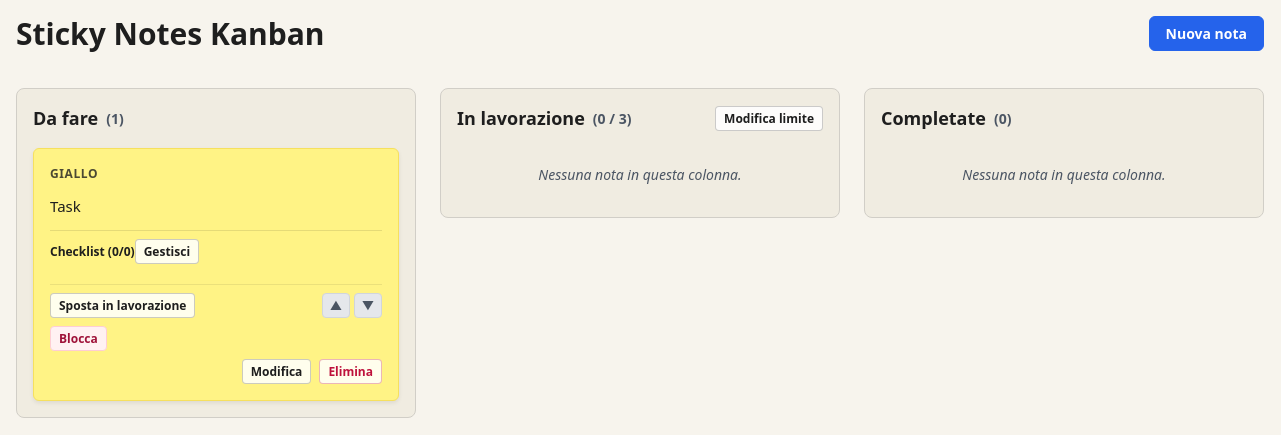
Test: App.vue CRUD orchestration › moves note to DOING when requested by board view
Click the button with aria-label "Sposta in lavorazione" at (123, 305), box [50,292,195,318]
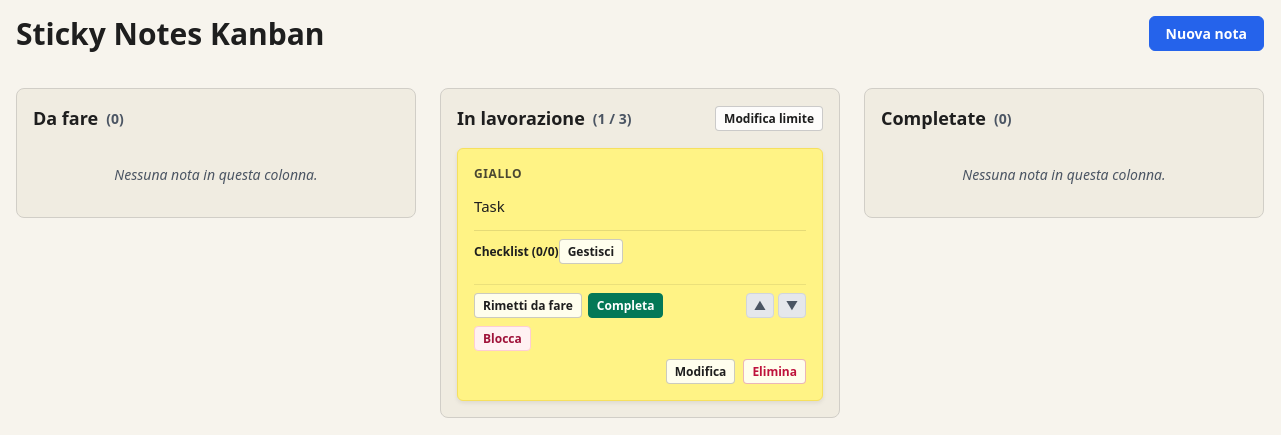
Expected: the element with class "board-column--doing" shows "Task", [474,196,505,216]
